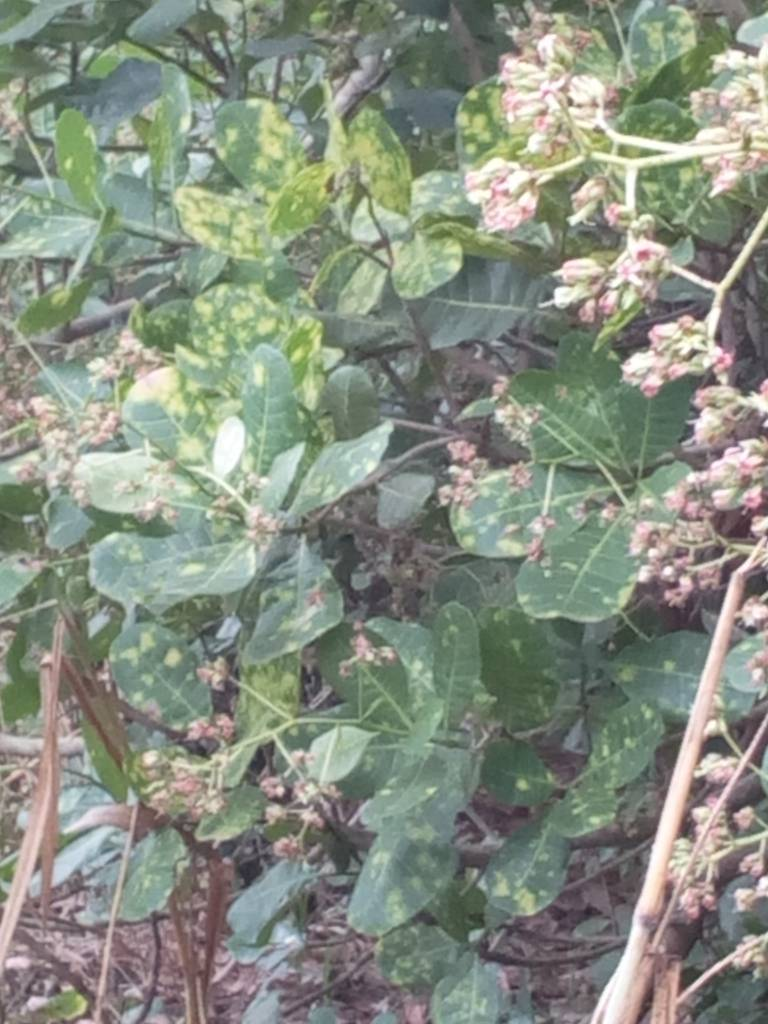Carence minérale: (449, 68, 644, 233), (502, 519, 685, 628), (191, 280, 333, 417), (443, 457, 603, 565), (83, 525, 274, 608), (69, 444, 236, 538), (242, 541, 354, 670), (106, 821, 222, 930), (336, 103, 438, 221), (575, 686, 689, 780), (40, 107, 129, 222), (474, 823, 583, 913), (210, 92, 283, 207), (374, 231, 474, 300)
